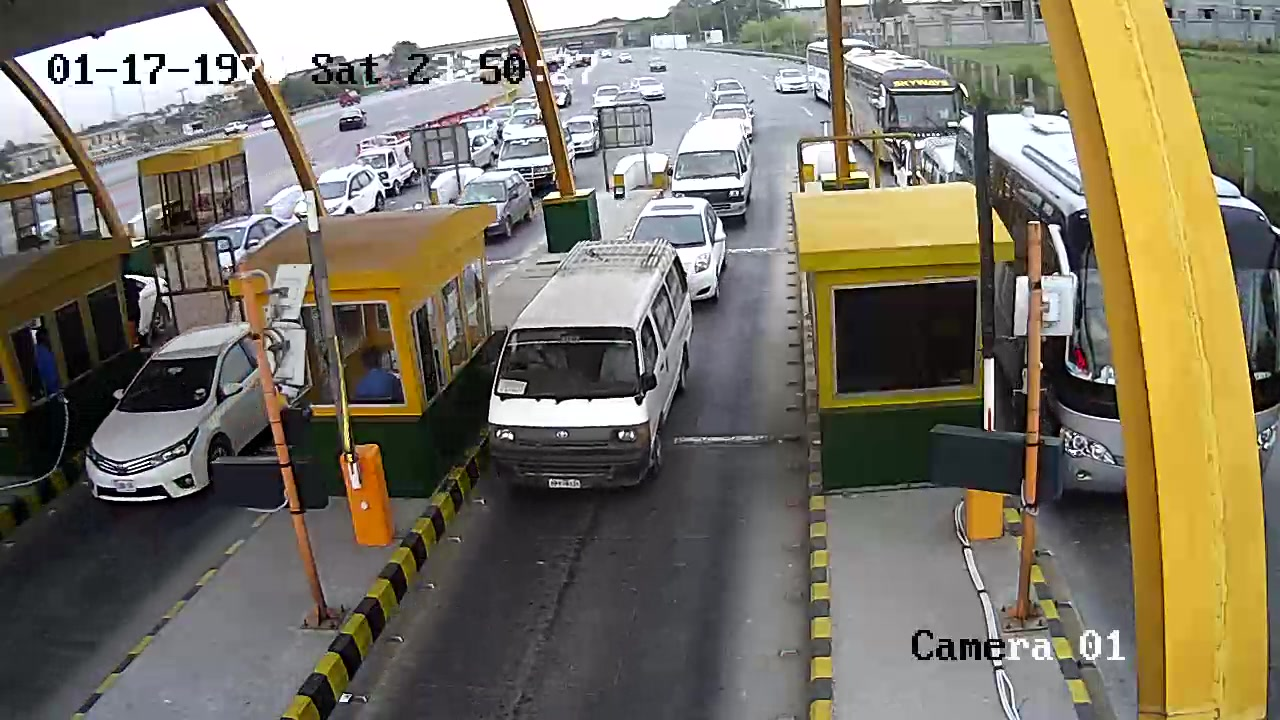F3: (485, 234, 707, 502)
